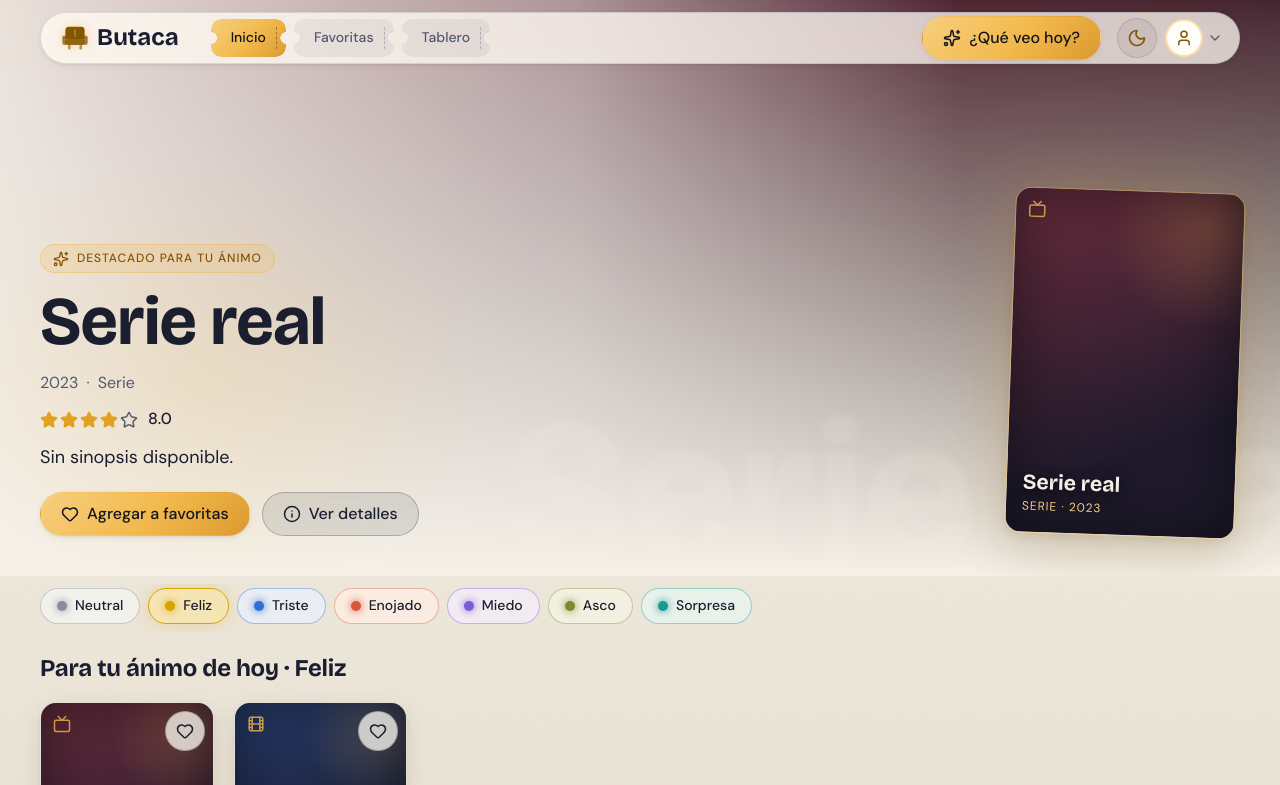
it: con sesión iniciada › si falla guardar la favorita, avisa y vuelve a lo que dice el servidor
Expected: the heading "Para tu ánimo de hoy · Feliz" is shown, [40,656,346,682]
Step 1. Click the button named "Agregar Película real a favoritas" → click(378, 731), box [358,711,398,751]
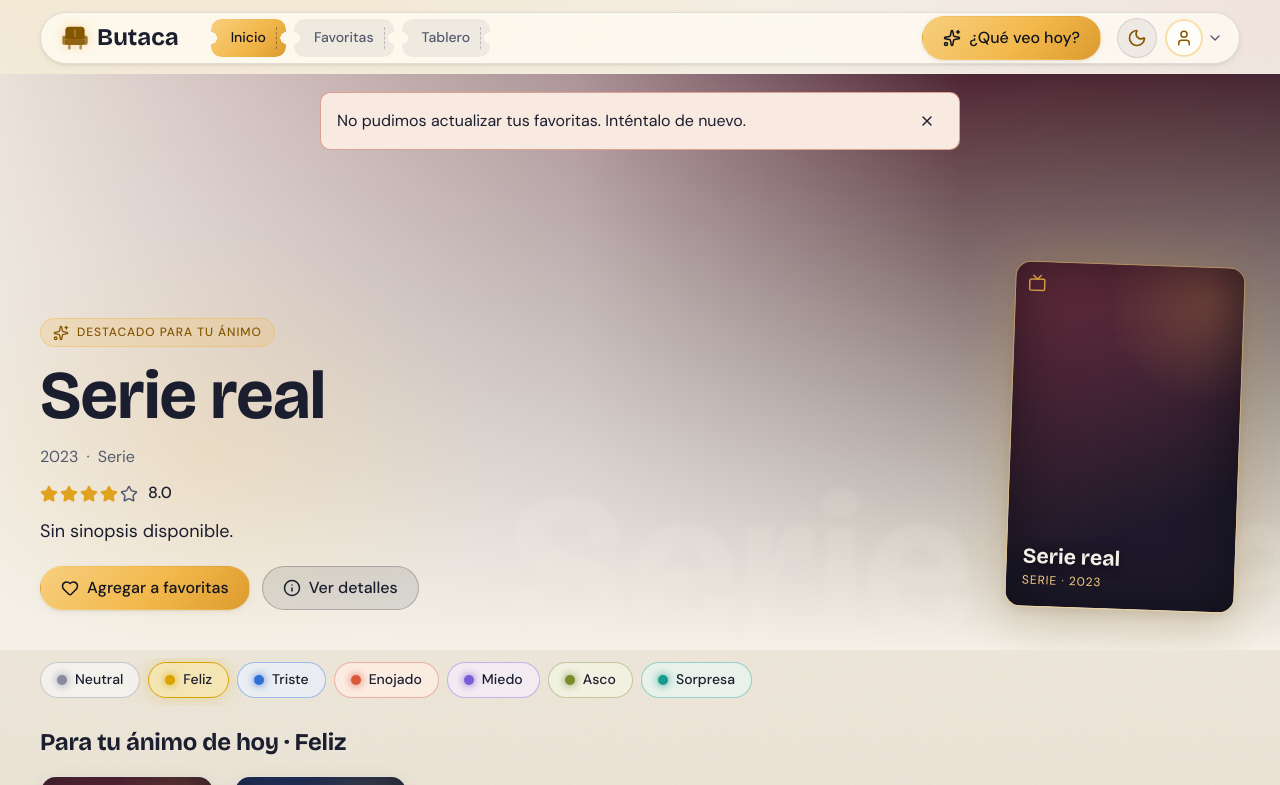
Result: the message with test id "aviso-global" shows "No pudimos actualizar tus favoritas" at [337,110,746,131]
